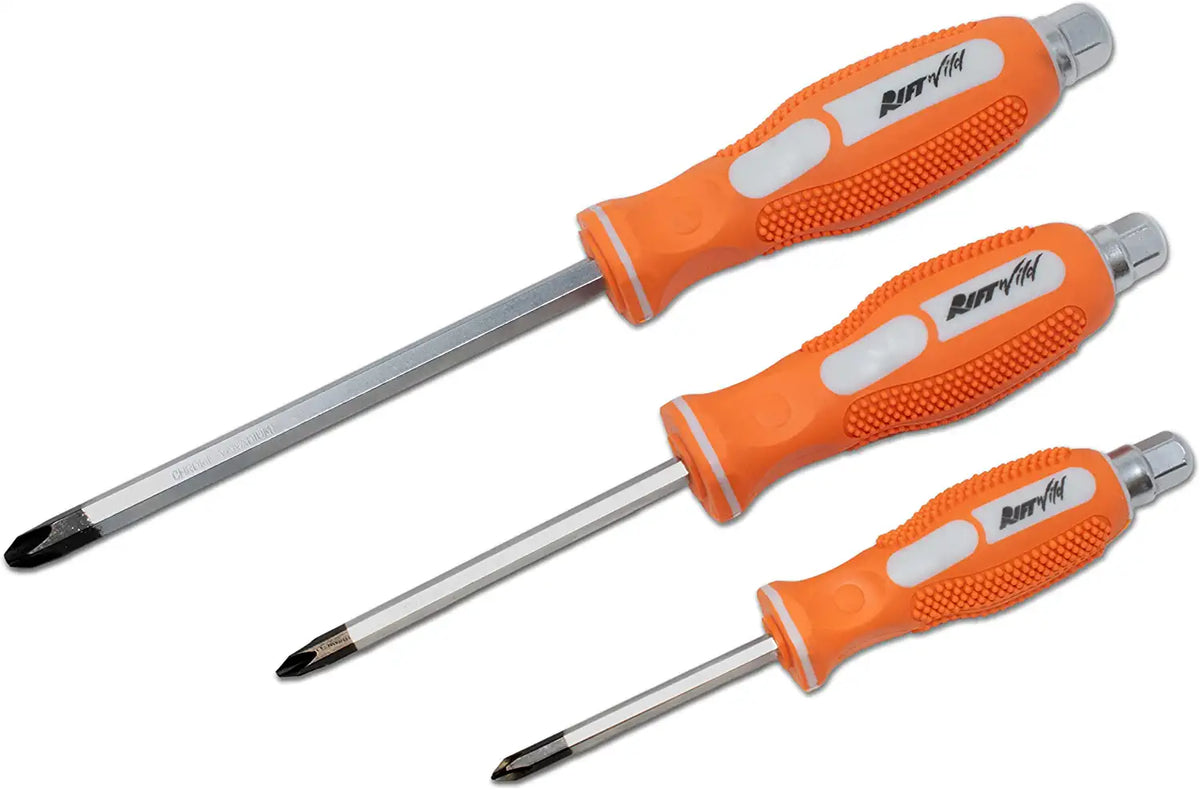screwdriver: (2, 2, 1118, 572), (273, 208, 1173, 682), (492, 432, 1197, 781)
